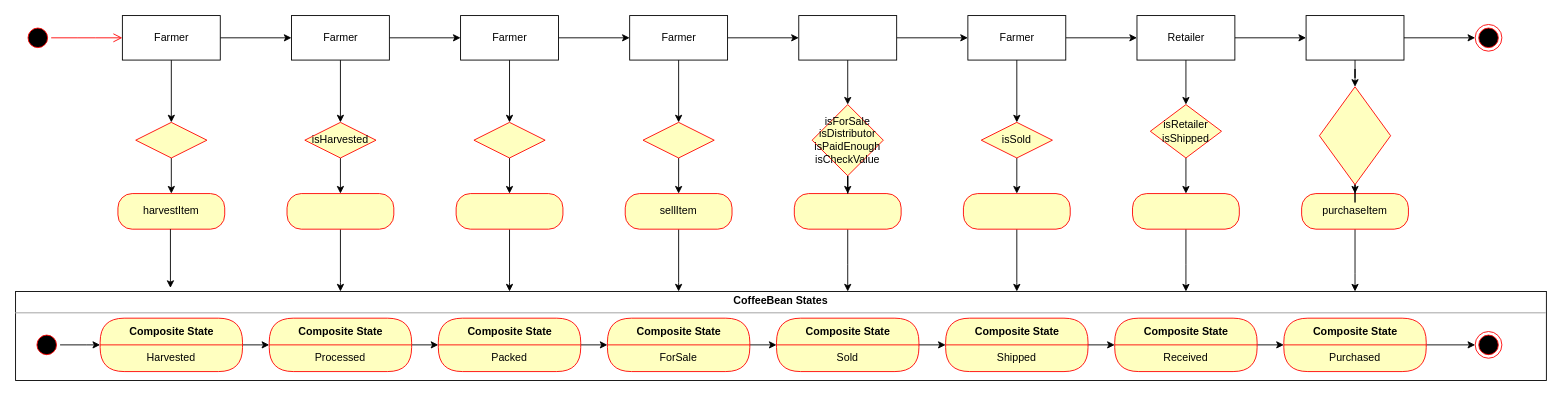
The diagram is 1562 pixels wide and 396 high, and some of its shapes have lost their labels. The shapes that lost their labels are listed below. From the top down, each one's centre as x and y in pixels, then its label:
At (x=847, y=37): "Distributor".
At (x=1354, y=37): "Consumer".
At (x=171, y=139): "isFarmer".
At (x=509, y=139): "isProcessed".
At (x=678, y=139): "isPacked".
At (x=1355, y=135): "isReceived isConsumer isPaidEnough isCeckValue".
At (x=340, y=211): "processItem".
At (x=509, y=211): "packItem".
At (x=847, y=211): "buyItem".
At (x=1016, y=211): "shipItem".
At (x=1185, y=211): "receiveItem".
